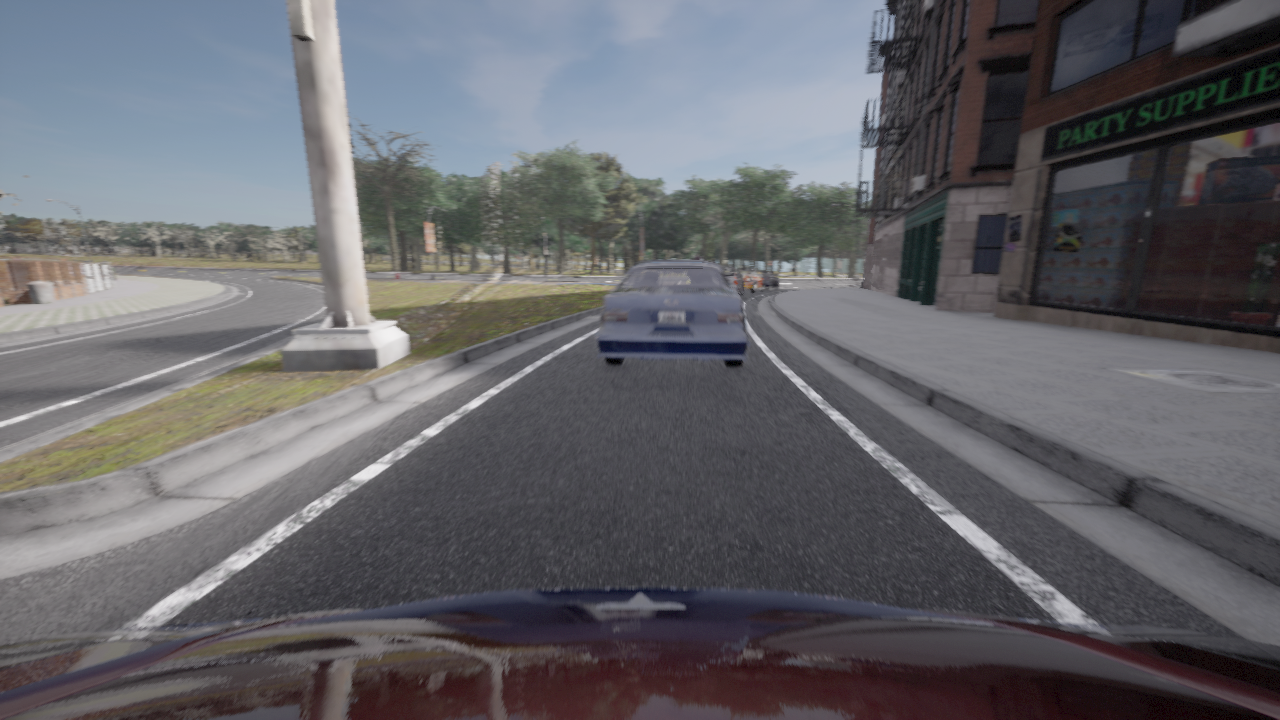cyclist: (0, 588, 1279, 719), (595, 260, 749, 367), (736, 266, 764, 293), (720, 267, 744, 296), (757, 272, 778, 290)
